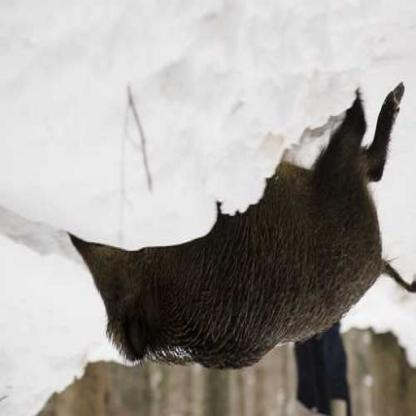boar: (72, 102, 415, 371)
